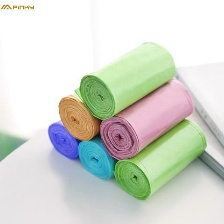plastic_bag: (97, 74, 202, 162), (113, 115, 211, 205), (75, 36, 177, 122), (50, 87, 110, 140), (42, 109, 90, 162), (73, 134, 118, 183)
